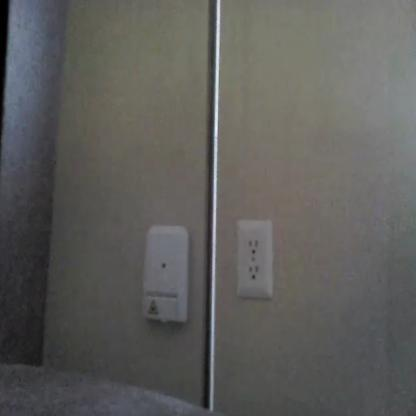OUTLET: (235, 220, 274, 298)
